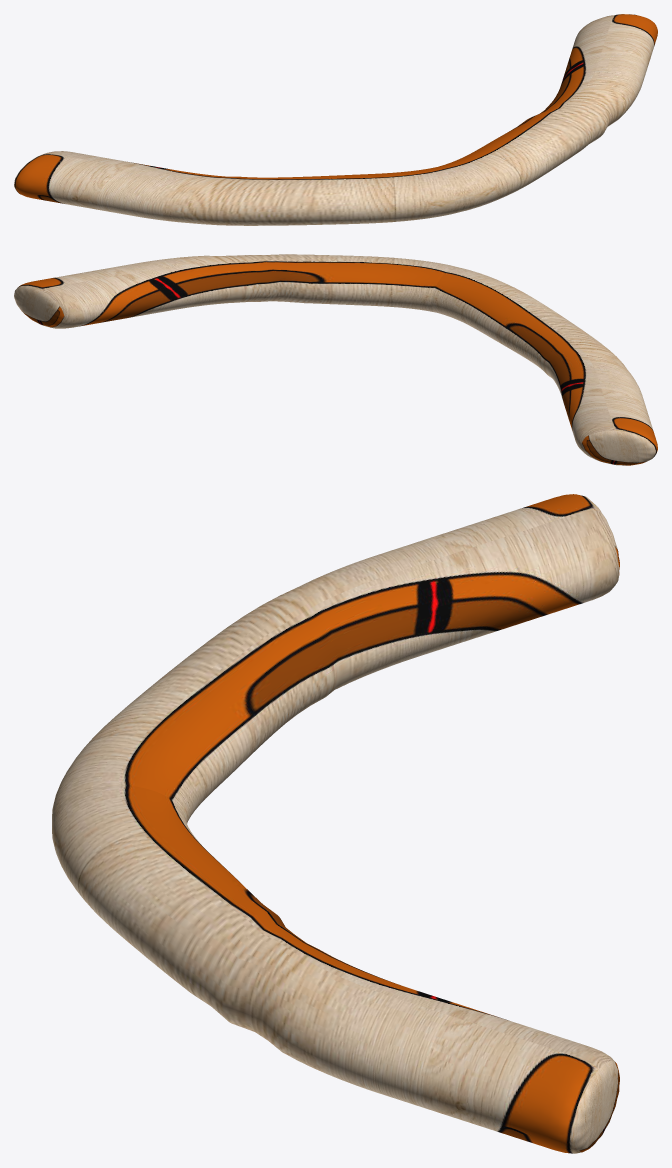
The model's file is boomerang.fbx.
The picture shows the model from 3 angles, top to bottom: view 1: azimuth 30°, elevation 25°; view 2: azimuth 150°, elevation 25°; view 3: azimuth 270°, elevation 25°; orthographic projection. The views are drawn at different scales.
Visible parts, largest first — view 1: Cylinder; view 2: Cylinder; view 3: Cylinder.
Boxes of the visible parts, x1=… form: Cylinder: x1=14, y1=14, x2=657, y2=225; Cylinder: x1=14, y1=254, x2=657, y2=465; Cylinder: x1=52, y1=494, x2=619, y2=1153.
Bounding box in the file's own units: 4.42 × 0.2594 × 1.7.
Materials: 1 (1 with a texture image).
